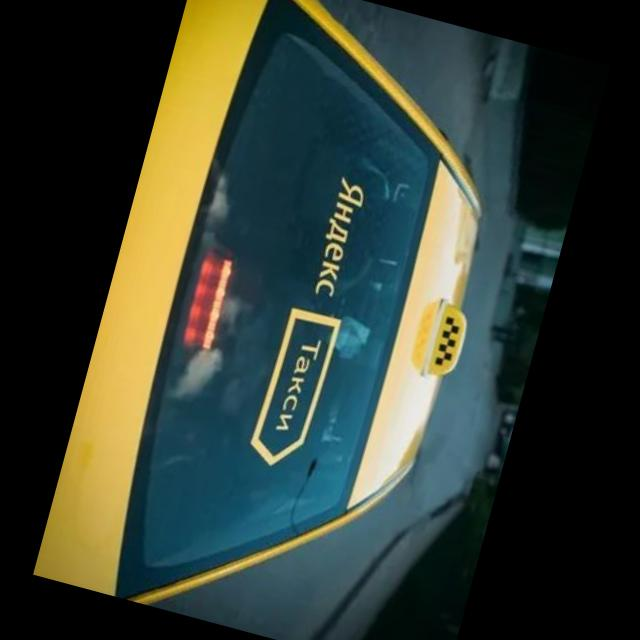taxi: (32, 1, 542, 640)
